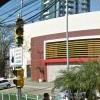traffic lights: (13, 18, 25, 46), (11, 66, 24, 89)
